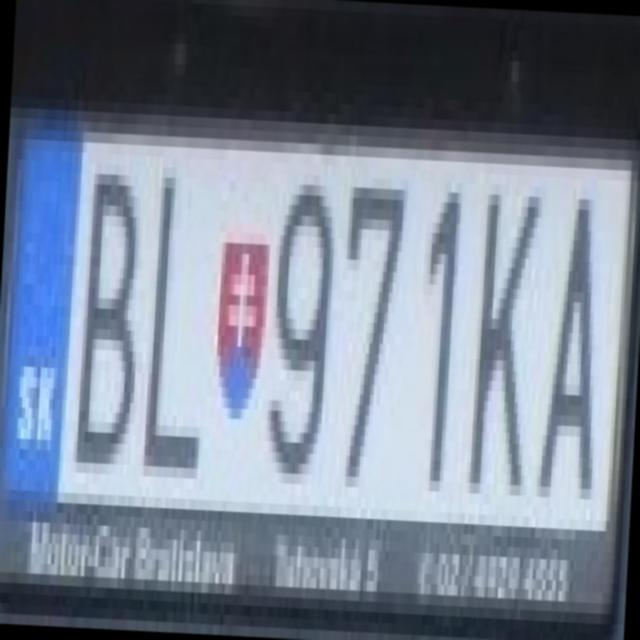1: (399, 160, 470, 492)
7: (328, 156, 409, 479)
9: (252, 152, 342, 476)
A: (526, 166, 614, 500)
B: (70, 142, 148, 466)
K: (456, 163, 541, 486)
L: (133, 146, 214, 469)
